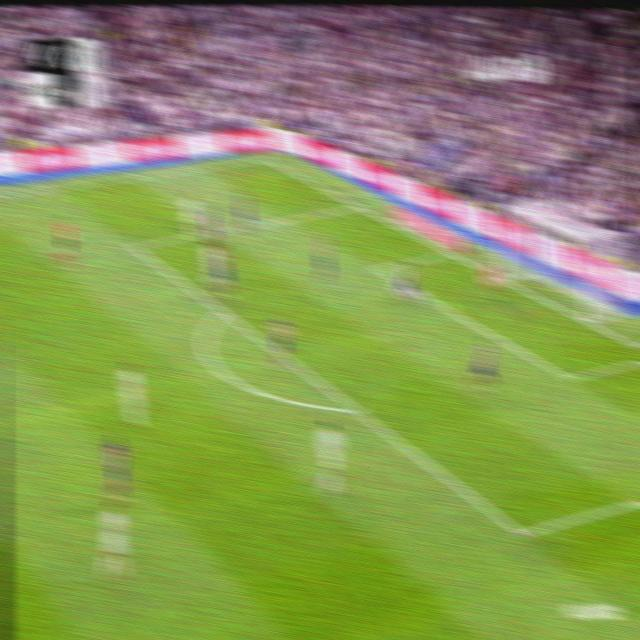bigarea_bottom_inner: (510, 514, 532, 551)
bigarea_top_inner: (125, 233, 142, 257)
bigarea_top_outter: (348, 196, 364, 213)
bottom_arc_area_intersection: (346, 395, 364, 419)
corner: (258, 152, 272, 163)
smallarea_bottom_inner: (560, 365, 576, 388)
smallarea_top_inner: (125, 233, 142, 257)
top_arc_area_intersection: (214, 302, 230, 319)
